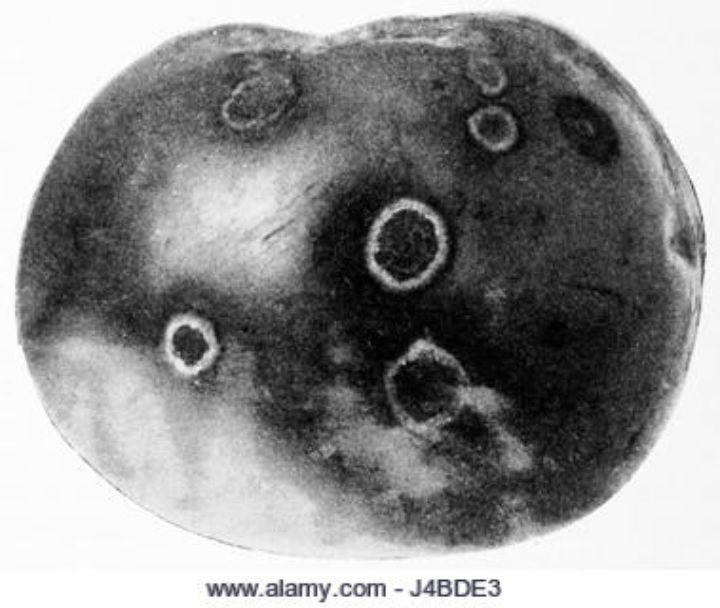SCAB: (73, 34, 696, 552)
